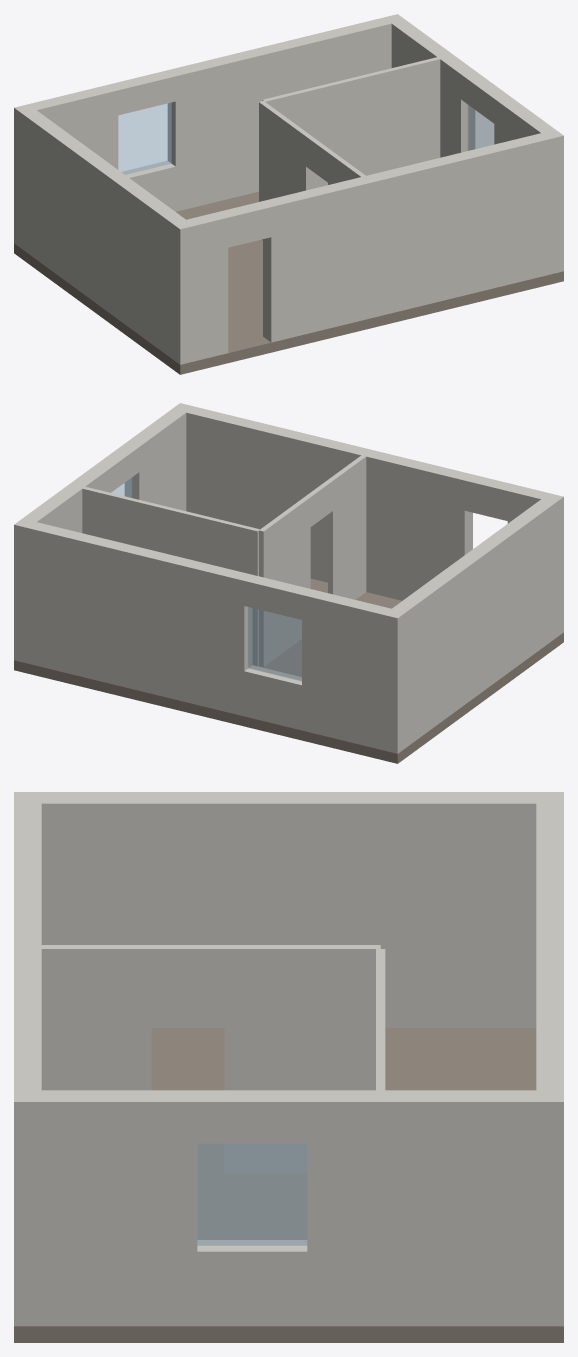
The model's file is esempio.obj.
3 renders of one model, top to bottom at view 1: azimuth 30°, elevation 25°; view 2: azimuth 150°, elevation 25°; view 3: azimuth 270°, elevation 25°, orthographic. The views are drawn at different scales.
Parts seen in each view (by area): view 1: Muri, Pavimento, Vetri; view 2: Muri, Pavimento, Vetri; view 3: Muri, Pavimento, Vetri.
Boxes of the visible parts, left/top/right/bottom form: Muri: left=14, top=14, right=563, bottom=364; Pavimento: left=14, top=191, right=563, bottom=374; Vetri: left=118, top=102, right=494, bottom=174; Muri: left=14, top=403, right=563, bottom=753; Pavimento: left=14, top=578, right=563, bottom=763; Vetri: left=111, top=478, right=301, bottom=681; Muri: left=14, top=792, right=563, bottom=1326; Pavimento: left=14, top=1028, right=563, bottom=1342; Vetri: left=197, top=1143, right=307, bottom=1245.
Bounding box in the file's own units: 8 × 2.9 × 6.
